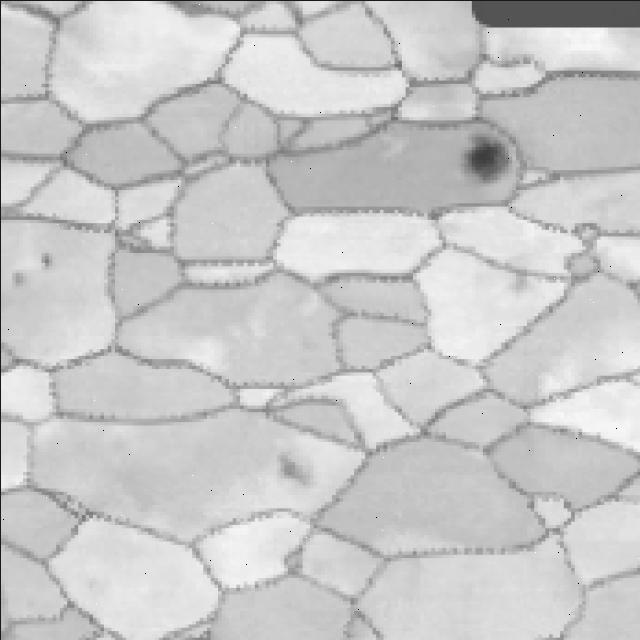good_void: (449, 127, 509, 187), (274, 454, 320, 489), (508, 274, 535, 297), (37, 249, 53, 272), (10, 269, 26, 289)
